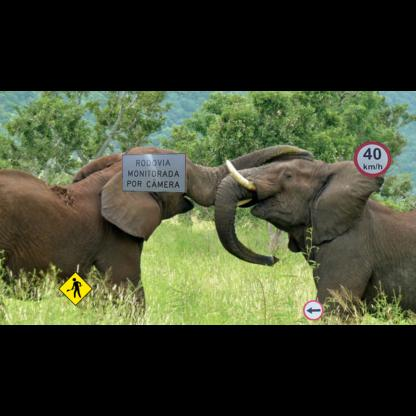A-24: (58, 271, 93, 306)
I-E: (121, 153, 186, 193)
R-19: (353, 141, 391, 177)
R-24a: (303, 300, 323, 320)
